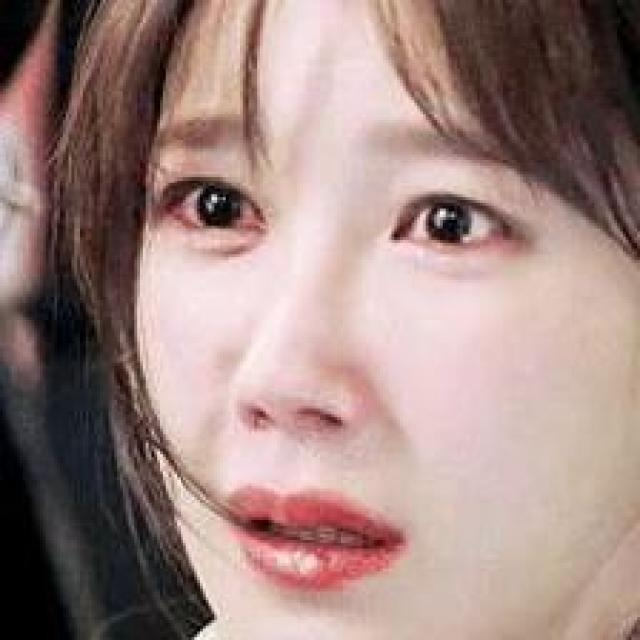fear: (117, 91, 541, 613)
